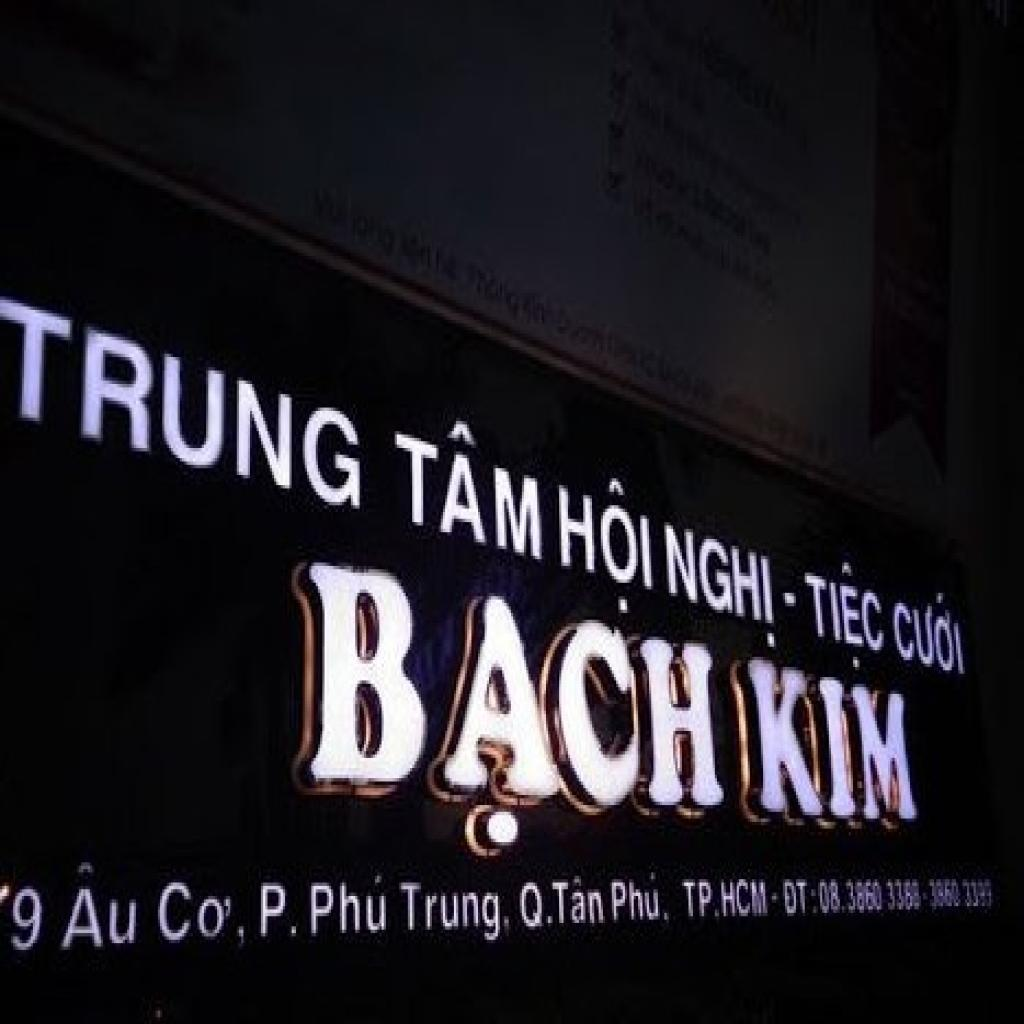text: (265, 529, 737, 859), (2, 286, 368, 526), (726, 647, 932, 859), (395, 397, 548, 583), (660, 516, 785, 660), (555, 462, 660, 626), (800, 546, 895, 687), (892, 566, 978, 697), (397, 872, 517, 956), (57, 856, 149, 964), (156, 869, 239, 957), (305, 869, 392, 950), (608, 862, 678, 940), (818, 876, 927, 926), (6, 873, 50, 970), (548, 869, 612, 933), (252, 872, 296, 946), (717, 876, 776, 930), (516, 873, 550, 943), (678, 869, 717, 930), (780, 872, 816, 930)
